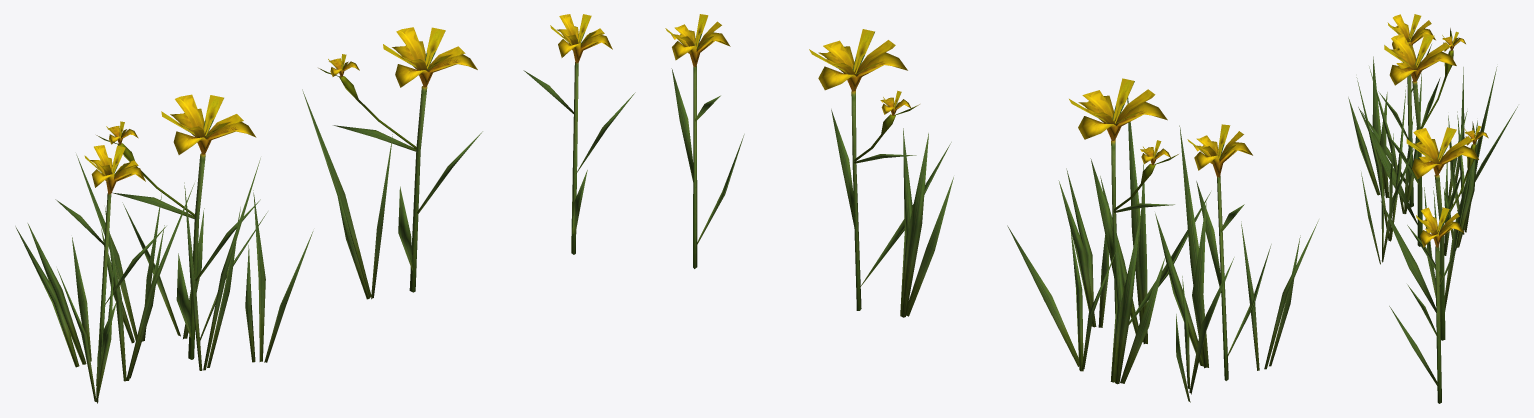
File: Iris pseudoacorus_m.FBX
3 views of the same model, side by side, from view 1: azimuth 30°, elevation 25°; view 2: azimuth 150°, elevation 25°; view 3: azimuth 270°, elevation 25° (orthographic). The views are drawn at different scales.
Parts seen in each view (by area): view 1: Iris_pseudoacorus, Iris_pseudoacorus004, Iris_pseudoacorus002, Iris_pseudoacorus003, Iris_pseudoacorusB004, Iris_pseudoacorusB005, Iris_pseudoacorusB, Iris_pseudoacorusB007, Iris_pseudoacorusB003, Iris_pseudoacorusB002, Iris_pseudoacorusB006, Object001; view 2: Iris_pseudoacorus, Iris_pseudoacorus004, Iris_pseudoacorus002, Iris_pseudoacorus003, Iris_pseudoacorusB, Iris_pseudoacorusB002, Iris_pseudoacorusB003, Iris_pseudoacorusB005, Object001, Iris_pseudoacorusB007, Iris_pseudoacorusB006, Iris_pseudoacorusB004; view 3: Iris_pseudoacorus, Iris_pseudoacorus004, Iris_pseudoacorus002, Iris_pseudoacorus003, Iris_pseudoacorusB006, Iris_pseudoacorusB005, Iris_pseudoacorusB, Iris_pseudoacorusB003, Object001, Iris_pseudoacorusB007, Iris_pseudoacorusB002, Iris_pseudoacorusB004.
Part boxes in pixels (x1,y1,x2,y2): Iris_pseudoacorus: (318, 27, 482, 292); Iris_pseudoacorus004: (96, 94, 260, 359); Iris_pseudoacorus002: (523, 14, 635, 254); Iris_pseudoacorus003: (55, 145, 166, 385); Iris_pseudoacorusB004: (15, 223, 91, 367); Iris_pseudoacorusB005: (184, 158, 260, 370); Iris_pseudoacorusB: (302, 89, 392, 299); Iris_pseudoacorusB007: (245, 190, 313, 362); Iris_pseudoacorusB003: (105, 183, 194, 381); Iris_pseudoacorusB002: (76, 154, 161, 343); Iris_pseudoacorusB006: (57, 256, 114, 403); Object001: (122, 202, 267, 341); Iris_pseudoacorus: (809, 29, 951, 310); Iris_pseudoacorus004: (1069, 78, 1210, 324); Iris_pseudoacorus002: (665, 14, 744, 268); Iris_pseudoacorus003: (1187, 124, 1271, 380); Iris_pseudoacorusB: (900, 128, 953, 317); Iris_pseudoacorusB002: (1110, 212, 1165, 384); Iris_pseudoacorusB003: (1155, 125, 1208, 368); Iris_pseudoacorusB005: (1100, 97, 1147, 343); Object001: (1007, 225, 1115, 371); Iris_pseudoacorusB007: (1058, 168, 1108, 327); Iris_pseudoacorusB006: (1241, 220, 1318, 370); Iris_pseudoacorusB004: (1176, 257, 1234, 402); Iris_pseudoacorus: (1381, 121, 1488, 340); Iris_pseudoacorus004: (1358, 28, 1465, 246); Iris_pseudoacorus002: (1389, 207, 1463, 403); Iris_pseudoacorus003: (1361, 14, 1435, 207); Iris_pseudoacorusB006: (1348, 56, 1389, 197); Iris_pseudoacorusB005: (1356, 77, 1406, 241); Iris_pseudoacorusB: (1424, 140, 1476, 311); Iris_pseudoacorusB003: (1369, 66, 1421, 213); Object001: (1443, 120, 1477, 255); Iris_pseudoacorusB007: (1361, 148, 1413, 264); Iris_pseudoacorusB002: (1448, 66, 1497, 234); Iris_pseudoacorusB004: (1448, 67, 1517, 211).
Bounding box in the file's own units: 145 × 58.29 × 44.01.
